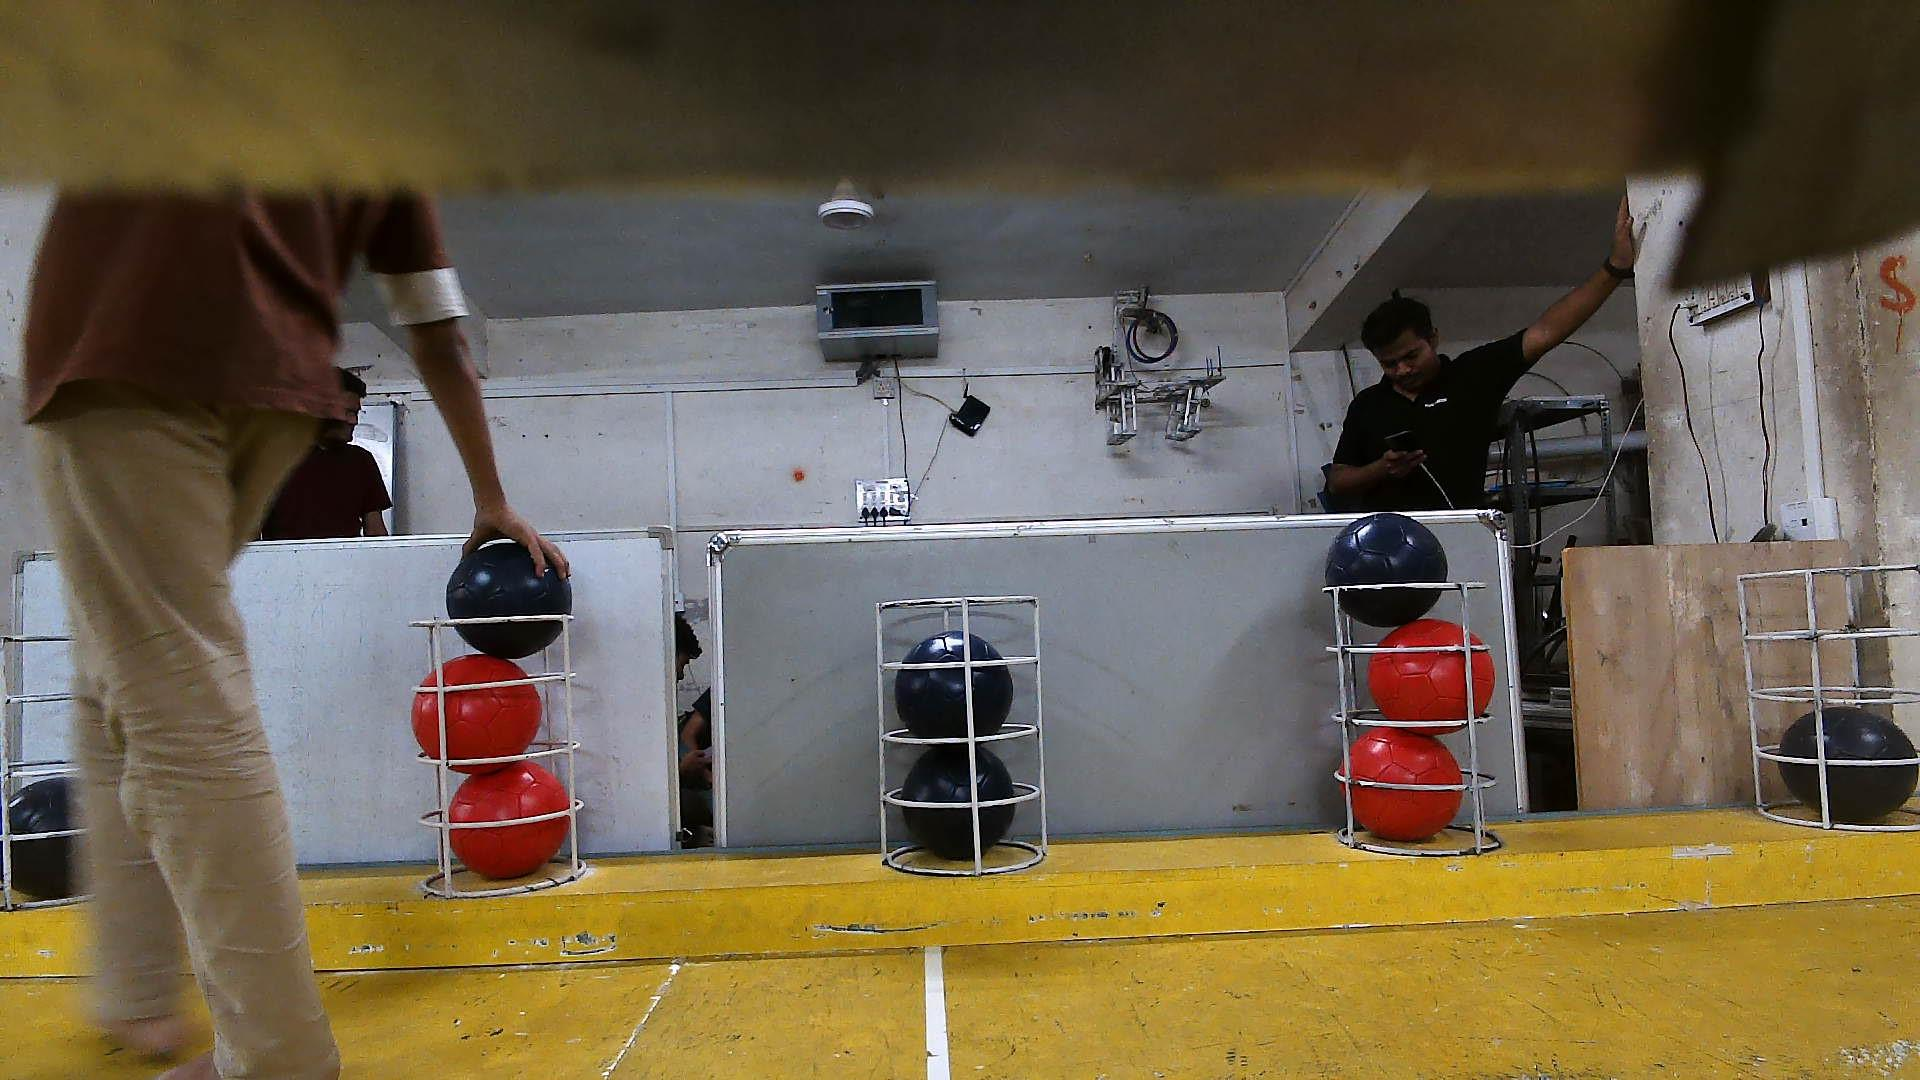dhoka: (1782, 705, 1919, 815), (448, 543, 571, 659), (1325, 514, 1447, 628), (895, 630, 1013, 746), (902, 742, 1017, 857), (8, 778, 66, 899)
laale: (448, 762, 571, 878), (413, 654, 542, 762), (1346, 729, 1461, 844), (1371, 621, 1494, 727)
